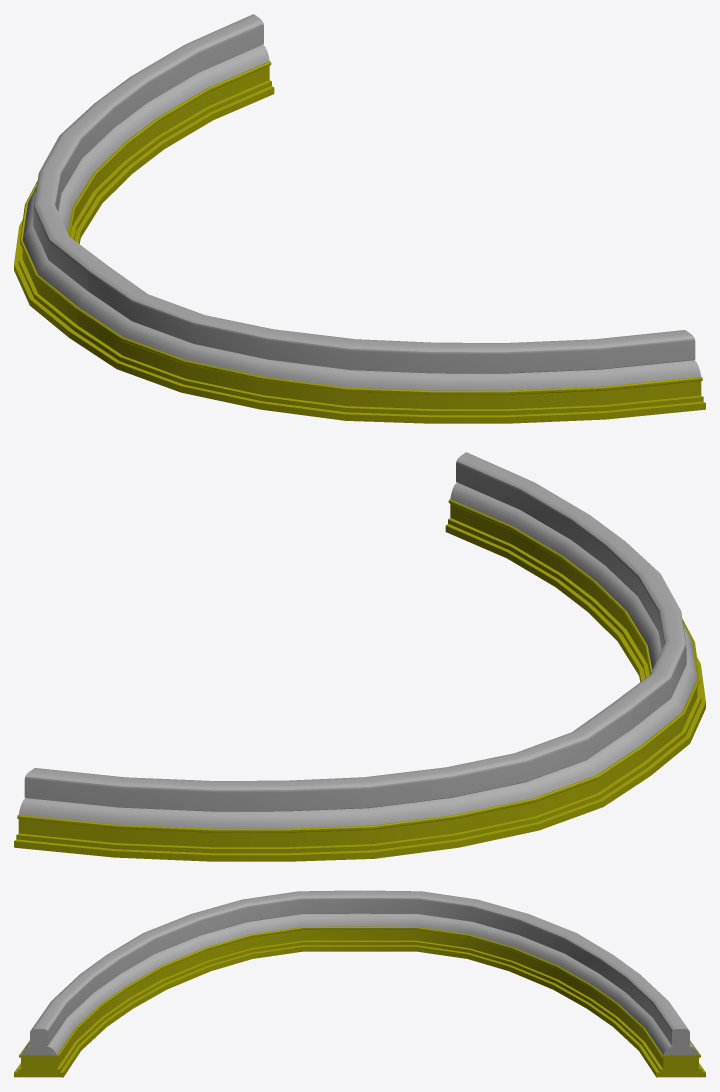
Rendered from rail_standard_curved_180.fbx.
3 views of the same model, one above another, from view 1: azimuth 30°, elevation 25°; view 2: azimuth 150°, elevation 25°; view 3: azimuth 270°, elevation 25° (orthographic). The views are drawn at different scales.
Parts seen in each view (by area): view 1: polySurface477, polySurface502, polySurface490, polySurface479, polySurface481, polySurface501, polySurface498, polySurface499, polySurface491, polySurface500; view 2: polySurface502, polySurface477, polySurface501, polySurface498, polySurface499, polySurface490, polySurface479, polySurface481, polySurface500, polySurface491; view 3: polySurface477, polySurface502, polySurface490, polySurface501, polySurface479, polySurface498, polySurface481, polySurface499, polySurface491, polySurface500.
Boxes of the visible parts, x1,y1,x2,y2 form: polySurface477: [88, 265, 695, 373]; polySurface502: [33, 14, 263, 290]; polySurface490: [77, 292, 700, 390]; polySurface479: [69, 325, 705, 423]; polySurface481: [77, 312, 701, 409]; polySurface501: [22, 44, 269, 306]; polySurface498: [14, 80, 274, 337]; polySurface499: [22, 66, 269, 324]; polySurface491: [75, 306, 702, 394]; polySurface500: [20, 61, 271, 309]; polySurface502: [24, 703, 631, 811]; polySurface477: [456, 452, 686, 728]; polySurface501: [19, 730, 642, 828]; polySurface498: [14, 763, 650, 861]; polySurface499: [18, 750, 642, 847]; polySurface490: [450, 482, 697, 744]; polySurface479: [445, 518, 705, 775]; polySurface481: [450, 504, 697, 762]; polySurface500: [17, 744, 644, 832]; polySurface491: [448, 499, 699, 747]; polySurface477: [30, 890, 359, 1046]; polySurface502: [360, 890, 689, 1046]; polySurface490: [21, 913, 359, 1055]; polySurface501: [360, 913, 698, 1055]; polySurface479: [14, 940, 359, 1077]; polySurface498: [360, 940, 705, 1077]; polySurface481: [21, 930, 359, 1069]; polySurface499: [360, 930, 698, 1069]; polySurface491: [19, 926, 359, 1057]; polySurface500: [360, 926, 700, 1057].
Size of the model in its own units: 5.4 by 0.8326 by 10.78.
